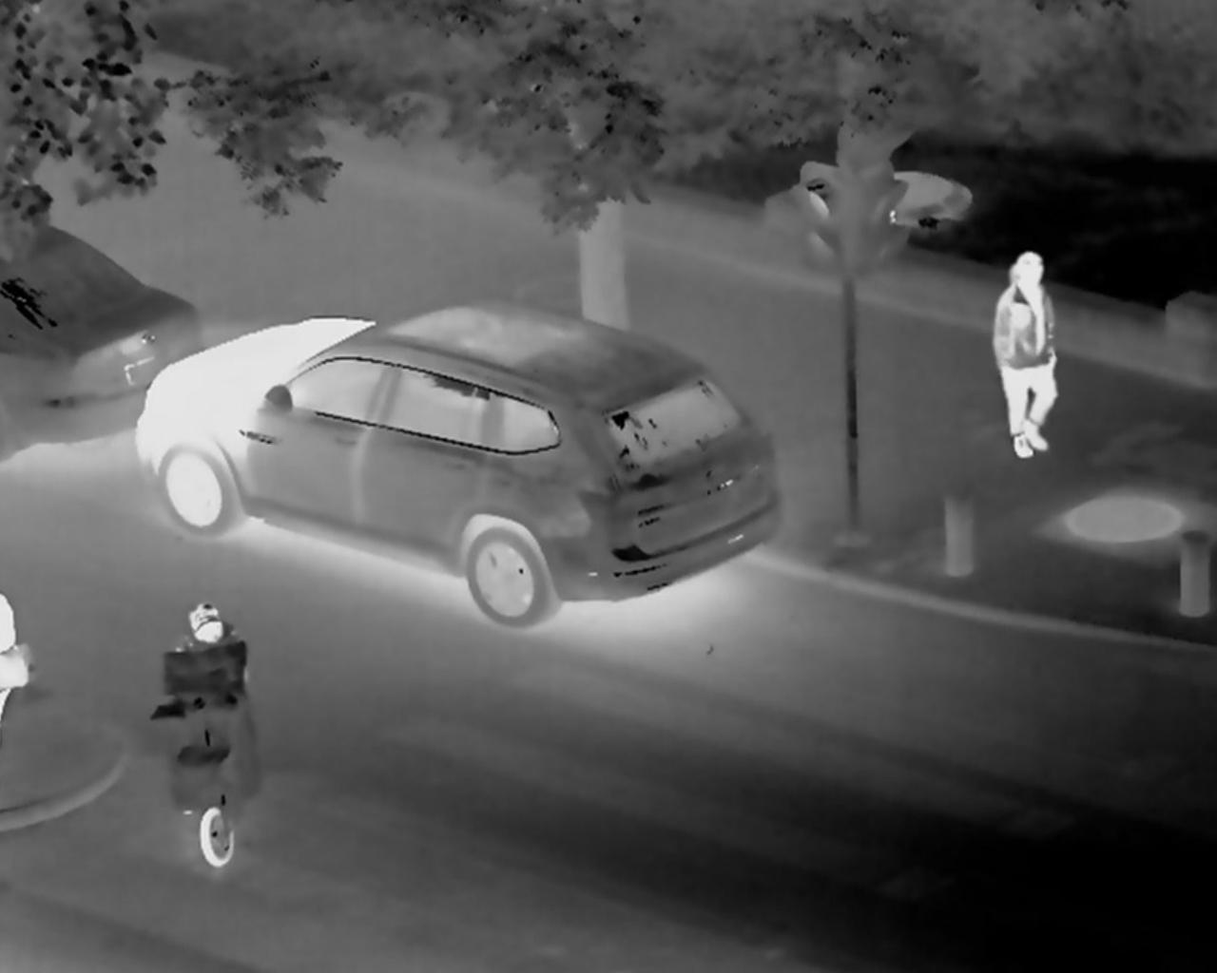person: (993, 244, 1060, 462), (179, 595, 241, 646)
